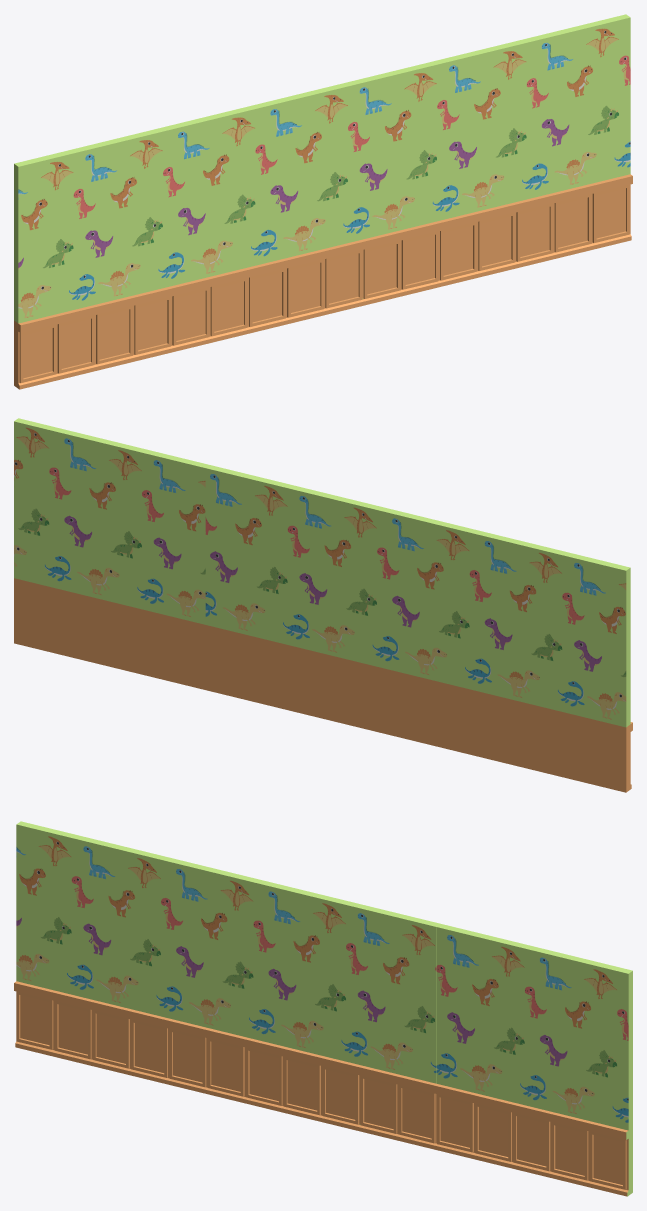
File: kapıduvarı.fbx
3 renders of one model, top to bottom at view 1: azimuth 30°, elevation 25°; view 2: azimuth 150°, elevation 25°; view 3: azimuth 330°, elevation 25°, orthographic.
Parts seen in each view (by area): view 1: Cube.057; view 2: Cube.057; view 3: Cube.057.
Boxes of the visible parts, box(x1,y1,x2,y2) form: Cube.057: box(14, 14, 632, 389); Cube.057: box(14, 418, 632, 792); Cube.057: box(14, 821, 632, 1196).
Size of the model in its own units: 2750 by 53.19 by 953.
